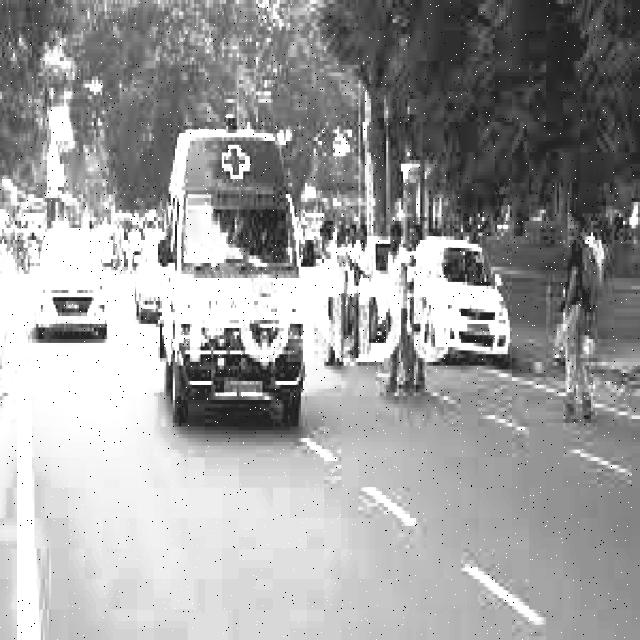Ambulance: (157, 101, 310, 455)
